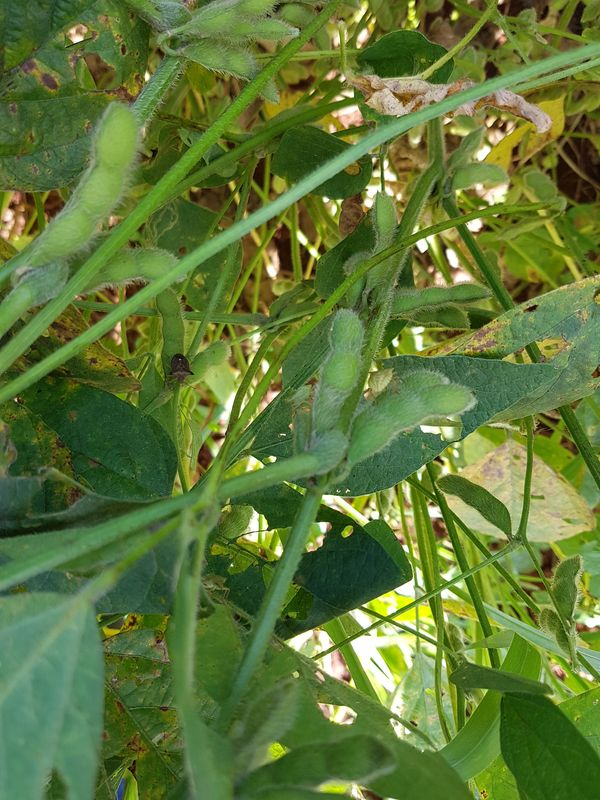Euschistus_heros_adulto: (157, 348, 198, 391)
